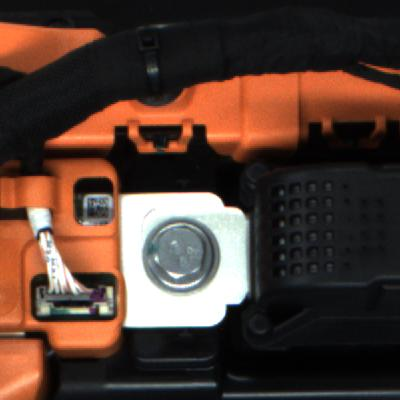nut_b: (145, 213, 244, 298)
